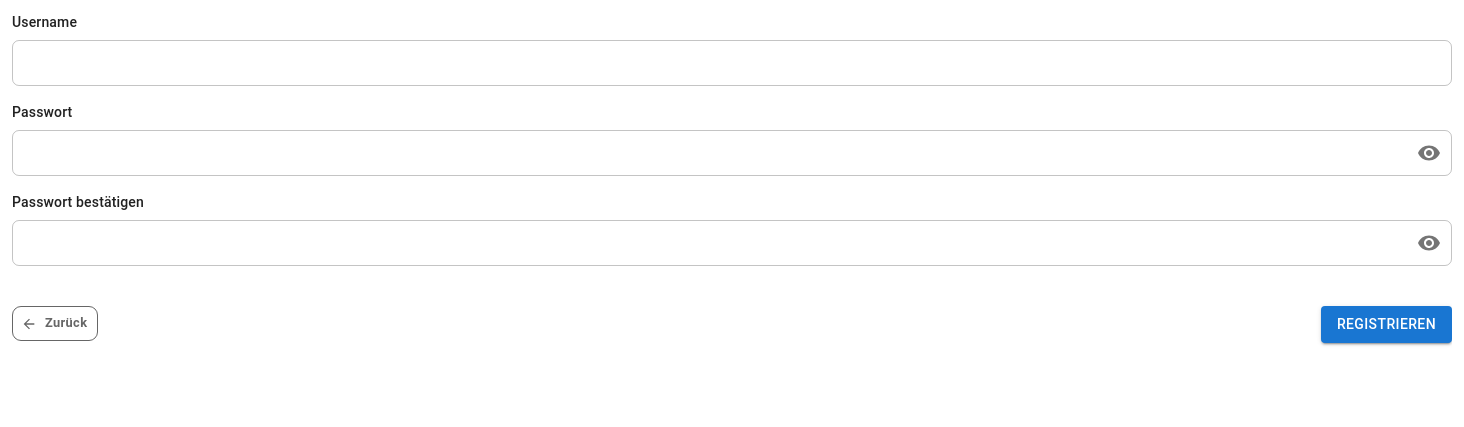
Scenario: shows error when username is missing
What coordinates should you click on to do the following:
click the button "Registrieren"
I would click on:
 (1386, 324)
Its box is [1321,306,1452,342].
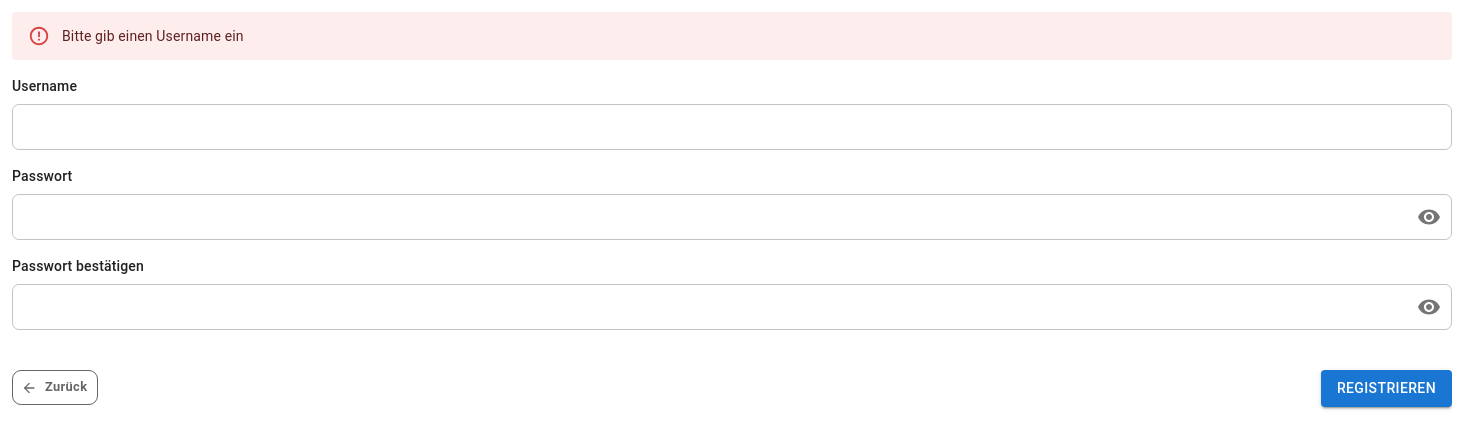
Expected: the text "Bitte gib einen Username ein" is shown, [62,28,244,44]
